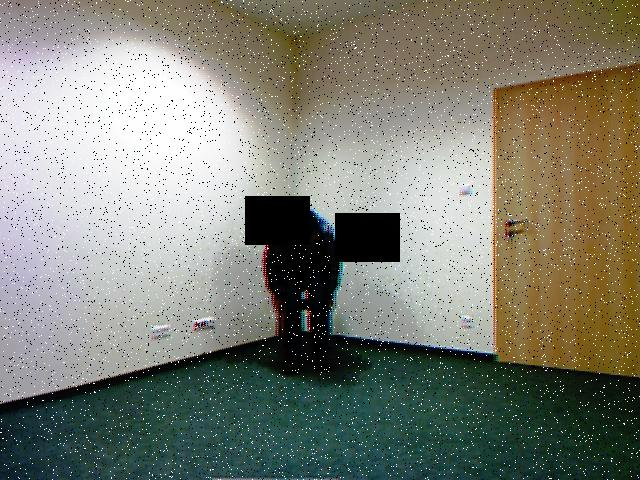bending: (256, 189, 359, 392)
